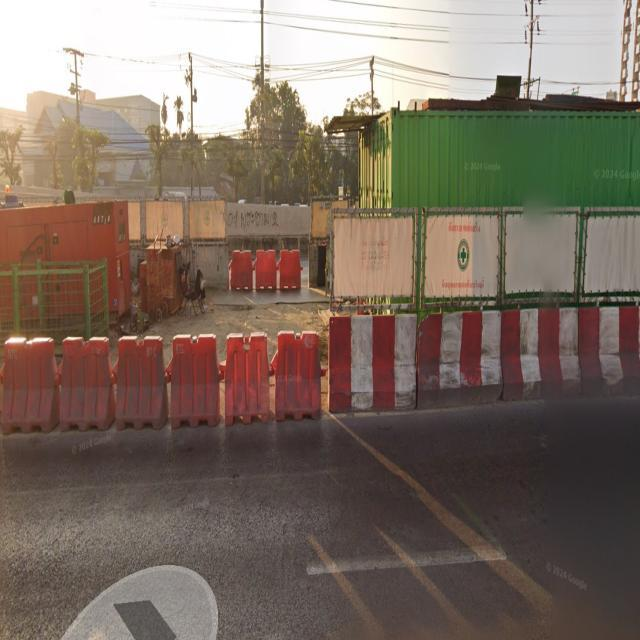fallen_object: (460, 280, 640, 425), (175, 277, 326, 440), (282, 289, 420, 417), (89, 303, 216, 432), (0, 336, 126, 432), (405, 297, 509, 403), (210, 237, 316, 295)
